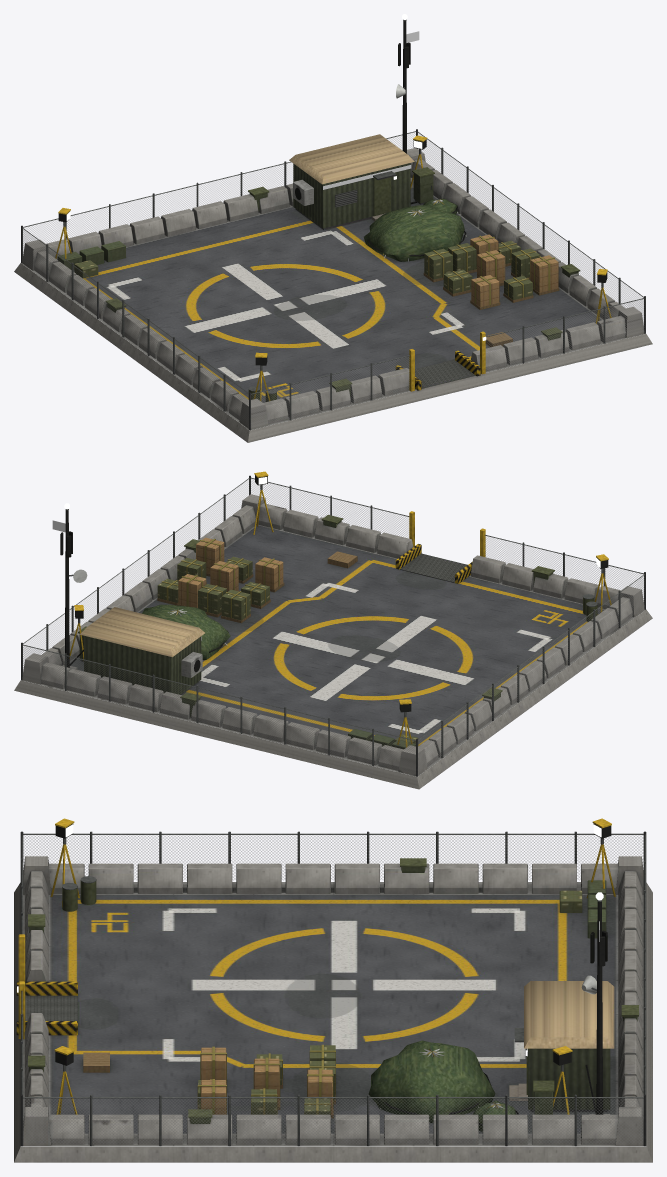
The model's file is drop_zone.glb.
3 views of the same model, one above another, from view 1: azimuth 30°, elevation 25°; view 2: azimuth 150°, elevation 25°; view 3: azimuth 270°, elevation 25° (orthographic). The views are drawn at different scales.
Parts seen in each view (by area): view 1: Building, Props; view 2: Building, Props; view 3: Building, Props.
Part boxes in pixels (left/top/right/bottom): Building: left=14, top=19, right=652, bottom=442; Props: left=22, top=132, right=643, bottom=427; Building: left=14, top=475, right=652, bottom=789; Props: left=23, top=471, right=644, bottom=773; Building: left=14, top=831, right=652, bottom=1162; Props: left=23, top=818, right=643, bottom=1143.
Bounding box in the file's own units: 24 × 10.26 × 24.
Materials: 10 (2 with a texture image).
